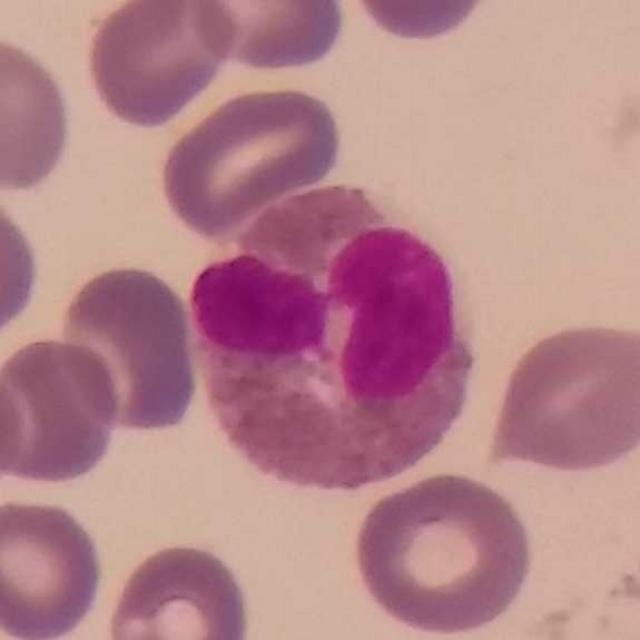Eosinophil: (189, 181, 478, 498)
RBC: (346, 466, 540, 639), (154, 80, 347, 245), (54, 258, 202, 439), (484, 315, 640, 479), (77, 0, 241, 131), (0, 333, 125, 491), (0, 492, 108, 640), (101, 537, 255, 640), (0, 29, 78, 199), (186, 0, 349, 77), (0, 183, 45, 355), (342, 0, 498, 47), (0, 356, 30, 512)
